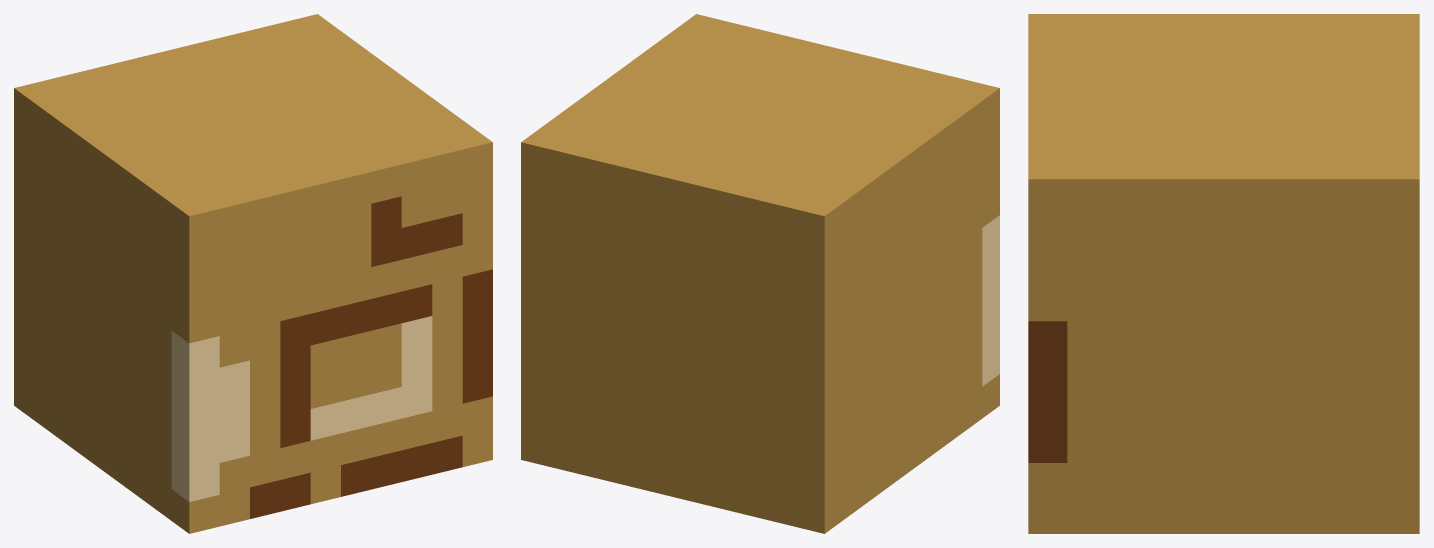
The model's file is tile6.obj.
3 views of the same model, side by side, from view 1: azimuth 30°, elevation 25°; view 2: azimuth 150°, elevation 25°; view 3: azimuth 270°, elevation 25° (orthographic). The views are drawn at different scales.
Bounding box in the file's own units: 1 × 1 × 1.
1 material, 1 textured.
